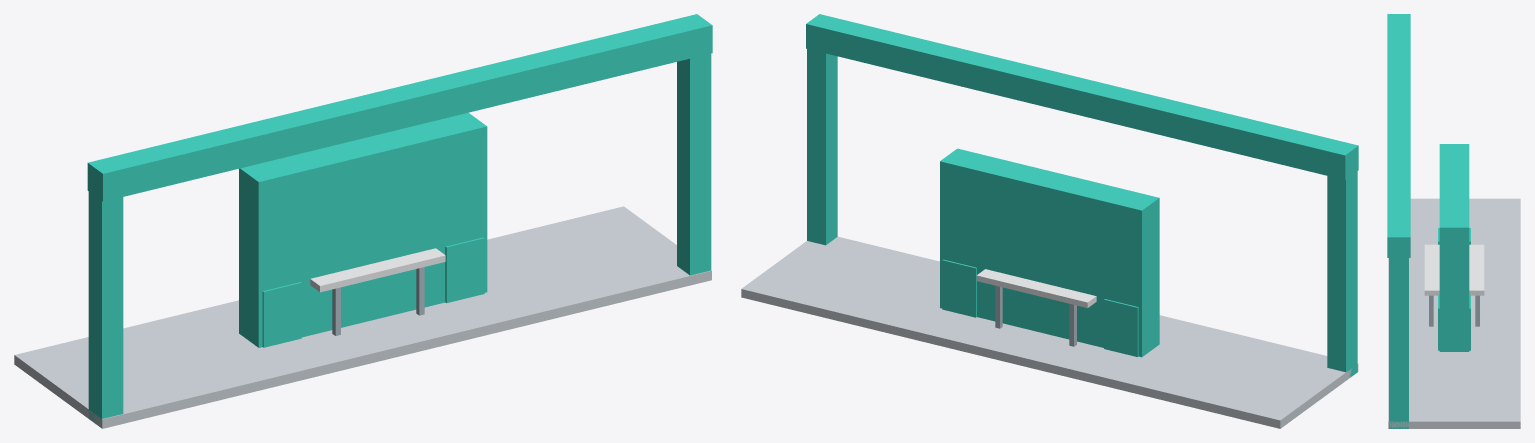
3 views of the same model, side by side, from view 1: azimuth 30°, elevation 25°; view 2: azimuth 150°, elevation 25°; view 3: azimuth 270°, elevation 25° (orthographic). The views are drawn at different scales.
Parts seen in each view (by area): view 1: Exhibition Booth Concept; view 2: Exhibition Booth Concept; view 3: Exhibition Booth Concept.
Part boxes in pixels (x1,y1,x2,y2): Exhibition Booth Concept: (14, 14, 712, 428); Exhibition Booth Concept: (741, 14, 1358, 428); Exhibition Booth Concept: (1387, 14, 1520, 428).
Bounding box in the file's own units: 8 × 3.2 × 2.01.
